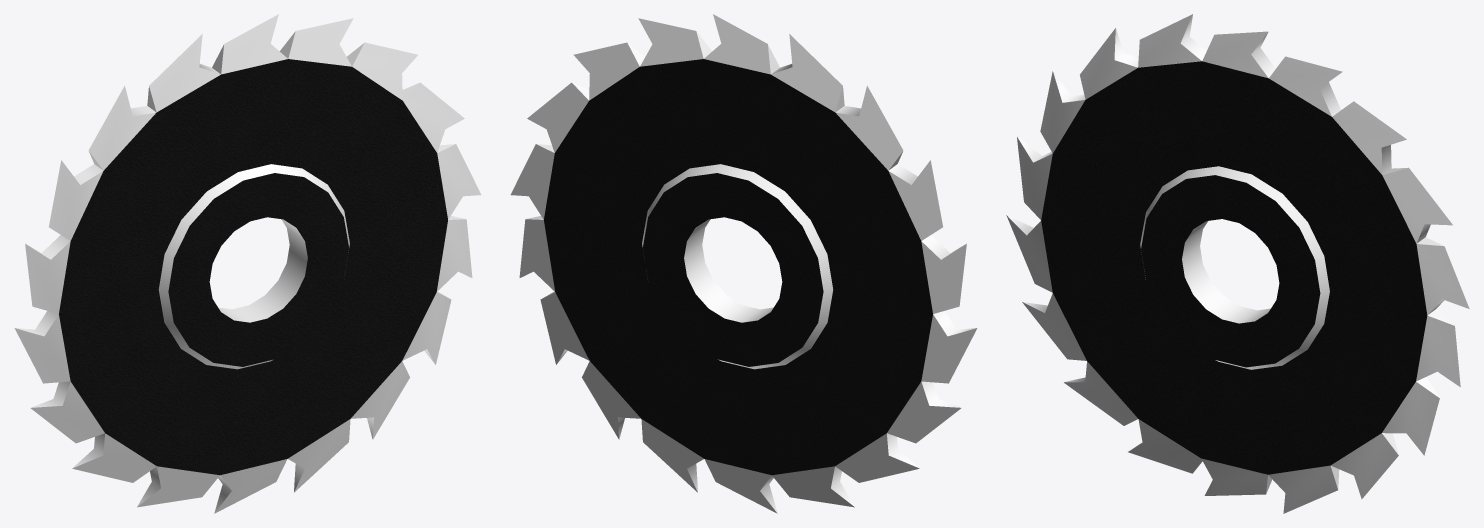
The model's file is SawBlade.FBX.
The picture shows the model from 3 angles, left to right: view 1: azimuth 30°, elevation 25°; view 2: azimuth 150°, elevation 25°; view 3: azimuth 330°, elevation 25°; orthographic projection.
Visible parts, largest first — view 1: Tube01; view 2: Tube01; view 3: Tube01.
Boxes of the visible parts, left/top/right/bottom form: Tube01: left=14, top=14, right=481, bottom=513; Tube01: left=510, top=14, right=977, bottom=513; Tube01: left=1006, top=14, right=1469, bottom=513.
Bounding box in the file's own units: 25.31 × 25.07 × 1.71.
